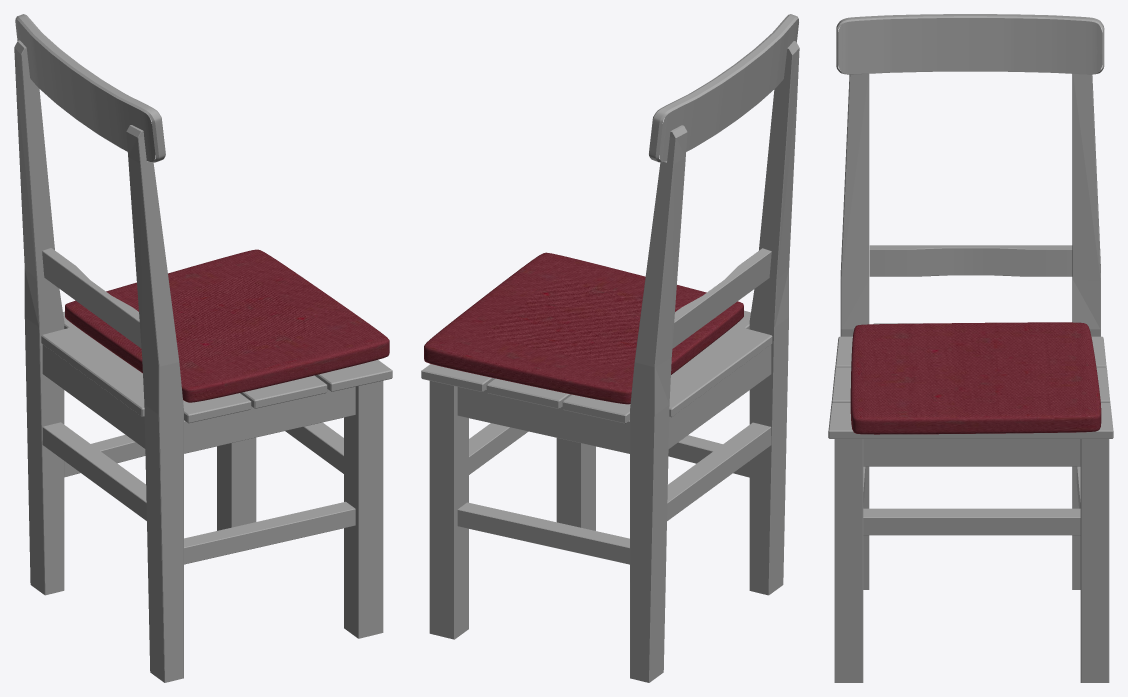
File: sc_kitchen_chair.glb
The picture shows the model from 3 angles, left to right: view 1: azimuth 30°, elevation 25°; view 2: azimuth 150°, elevation 25°; view 3: azimuth 270°, elevation 25°; orthographic projection. The views are drawn at different scales.
Visible parts, largest first — view 1: 41_TableCross, 09_Cushion1, 43_TableCross, 40_TableCross, 30_TableCross, 35_TableCross, 38_TableCross, 36_TableCross, 44_TableCross, 31_TableCross, 33_TableCross, 37_TableCross (+1 smaller); view 2: 41_TableCross, 09_Cushion1, 44_TableCross, 40_TableCross, 30_TableCross, 34_TableCross, 39_TableCross, 36_TableCross, 43_TableCross, 31_TableCross, 33_TableCross, 37_TableCross (+1 smaller); view 3: 09_Cushion1, 30_TableCross, 41_TableCross, 43_TableCross, 44_TableCross, 31_TableCross, 32_TableCross, 37_TableCross, 40_TableCross.
Part boxes in pixels (x1=…): 41_TableCross: x1=14, y1=40, x2=183, y2=682; 09_Cushion1: x1=65, y1=249, x2=389, y2=402; 43_TableCross: x1=344, y1=381, x2=383, y2=638; 40_TableCross: x1=41, y1=311, x2=392, y2=423; 30_TableCross: x1=15, y1=14, x2=165, y2=162; 35_TableCross: x1=184, y1=387, x2=355, y2=453; 38_TableCross: x1=184, y1=501, x2=355, y2=564; 36_TableCross: x1=42, y1=422, x2=146, y2=520; 44_TableCross: x1=217, y1=437, x2=256, y2=530; 31_TableCross: x1=42, y1=248, x2=141, y2=348; 33_TableCross: x1=42, y1=344, x2=145, y2=448; 37_TableCross: x1=285, y1=422, x2=343, y2=473; 41_TableCross: x1=630, y1=41, x2=799, y2=682; 09_Cushion1: x1=424, y1=252, x2=743, y2=404; 44_TableCross: x1=429, y1=381, x2=468, y2=639; 40_TableCross: x1=421, y1=310, x2=772, y2=423; 30_TableCross: x1=649, y1=14, x2=798, y2=162; 34_TableCross: x1=457, y1=387, x2=629, y2=453; 39_TableCross: x1=457, y1=502, x2=629, y2=564; 36_TableCross: x1=667, y1=422, x2=771, y2=520; 43_TableCross: x1=556, y1=438, x2=595, y2=530; 31_TableCross: x1=672, y1=248, x2=771, y2=348; 33_TableCross: x1=668, y1=344, x2=771, y2=448; 37_TableCross: x1=469, y1=423, x2=528, y2=474; 09_Cushion1: x1=850, y1=322, x2=1101, y2=434; 30_TableCross: x1=836, y1=14, x2=1104, y2=74; 41_TableCross: x1=840, y1=74, x2=1100, y2=589; 43_TableCross: x1=834, y1=439, x2=863, y2=682; 44_TableCross: x1=1080, y1=439, x2=1109, y2=682; 31_TableCross: x1=869, y1=245, x2=1072, y2=276; 32_TableCross: x1=863, y1=439, x2=1080, y2=466; 37_TableCross: x1=863, y1=508, x2=1080, y2=535; 40_TableCross: x1=828, y1=323, x2=1113, y2=438.
Size of the model in its own units: 0.5259 by 1.1 by 0.5128.
2 materials, 1 textured.
